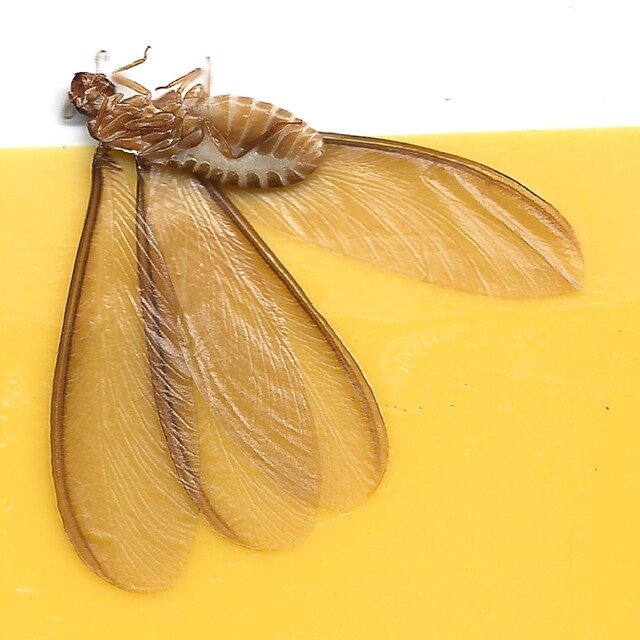Isoptera: (55, 49, 585, 591)
